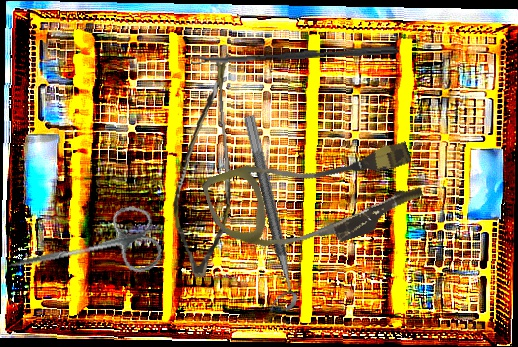Cannula: (200, 116, 429, 278)
Fixation Ring: (226, 114, 301, 314)
Iris Scissors: (0, 201, 166, 302)
Micro Scissor: (160, 50, 249, 279)
Surgical Spoon: (190, 44, 400, 65)
